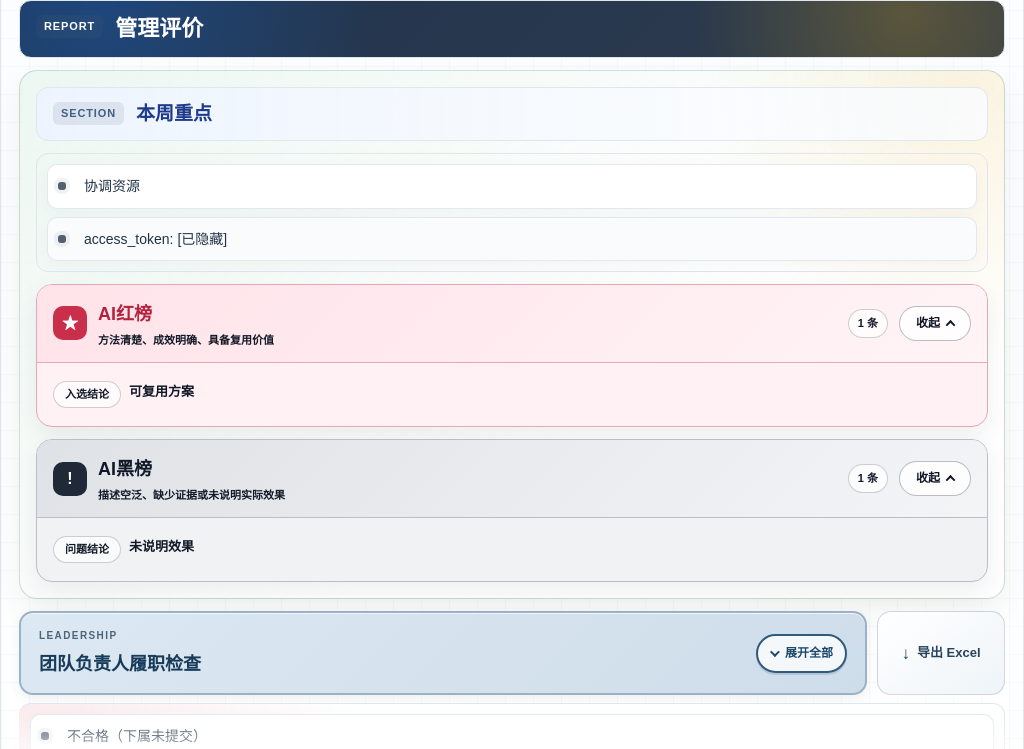
Markdown report presentation › orders AI highlights around the weekly focus and hides unsafe detail
Expected: the element with class "report-block--ai-ranking" shows "可复用方案", top-left (129, 384), bottom-right (194, 399)
Expected: the element with class "report-block--ai-ranking" shows "未说明效果", top-left (129, 539), bottom-right (194, 554)
Click the button with class "ai-ranking-toggle" showing "★ AI红榜 方法清楚、成效明确、具备复用价值 1 条 收起" at coordinates (70, 323), box top-left (37, 285), bottom-right (987, 362)
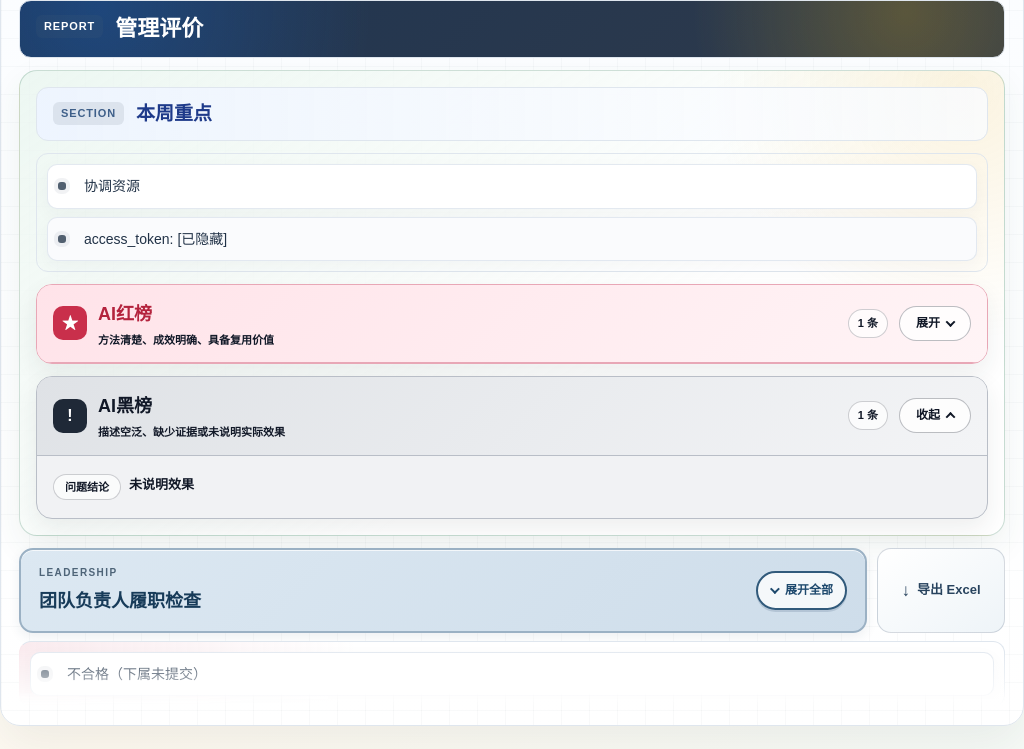
Expected: the button with class "ai-ranking-toggle" is collapsed
Expected: the text "入选结论 可复用方案" is gone
Click the button with class "ai-ranking-toggle" showing "★ AI红榜 方法清楚、成效明确、具备复用价值 1 条 展开" at coordinates (70, 323), box top-left (37, 285), bottom-right (987, 362)
(page scrolled)
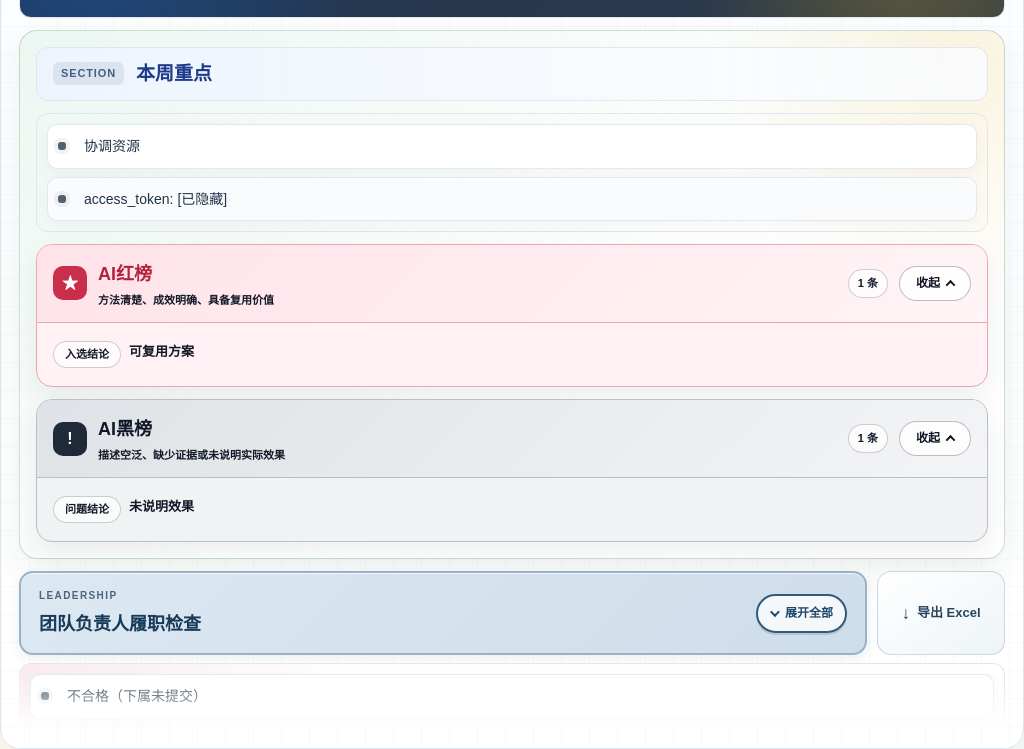
Expected: the text "不合格（下属未提交）" is shown, top-left (67, 688), bottom-right (207, 704)
Expected: the button with class "ai-ranking-toggle" is expanded, top-left (37, 245), bottom-right (987, 322)
